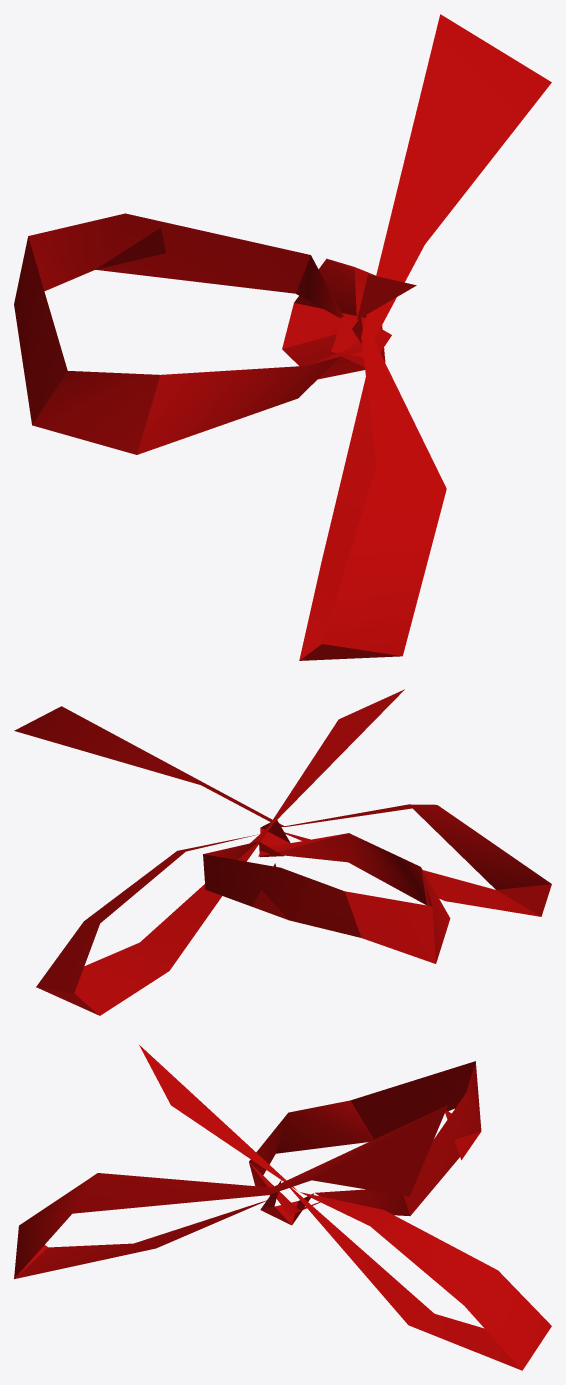
File: CVETY_V4.FBX
The picture shows the model from 3 angles, top to bottom: view 1: azimuth 30°, elevation 25°; view 2: azimuth 150°, elevation 25°; view 3: azimuth 270°, elevation 25°; orthographic projection. The views are drawn at different scales.
Visible parts, largest first — view 1: rouse001; view 2: rouse001; view 3: rouse001.
Boxes of the visible parts, x1,y1,x2,y2 form: rouse001: (14,14,551,660); rouse001: (14,689,551,1015); rouse001: (14,1045,551,1370).
Bounding box in the file's own units: 0.000804 × 0.000523 × 0.000864.
